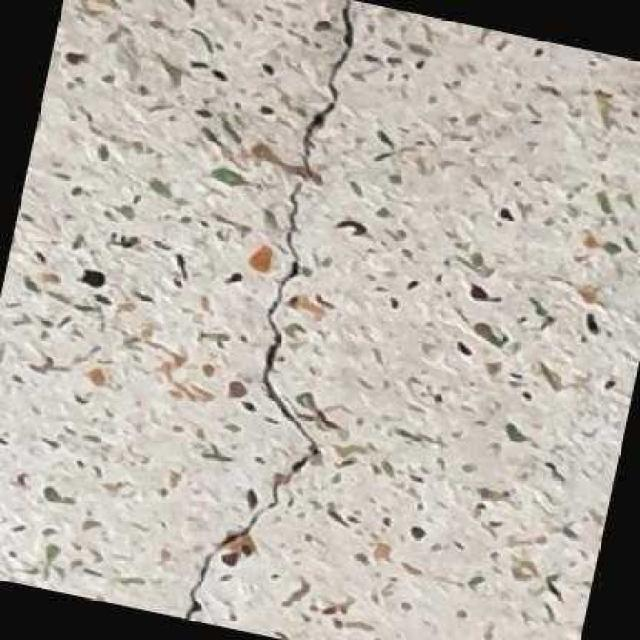D00: (172, 0, 363, 621)
